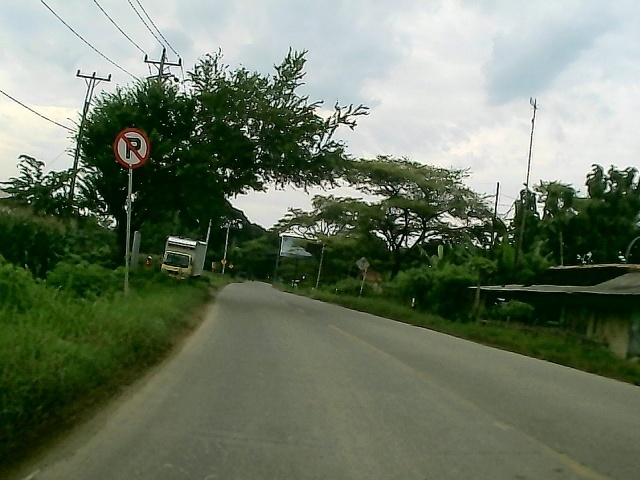Dilarang parkir: (110, 124, 152, 170)
